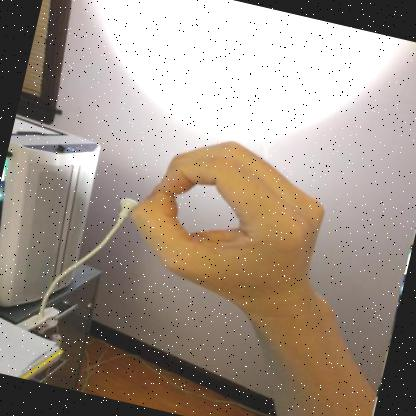O: (129, 141, 324, 325)
